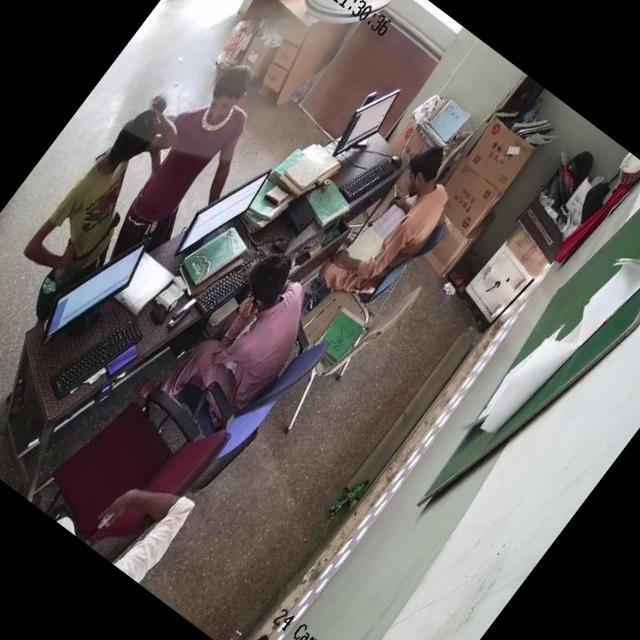person: (107, 64, 270, 252), (19, 116, 177, 299), (326, 142, 476, 312), (180, 255, 331, 423)
